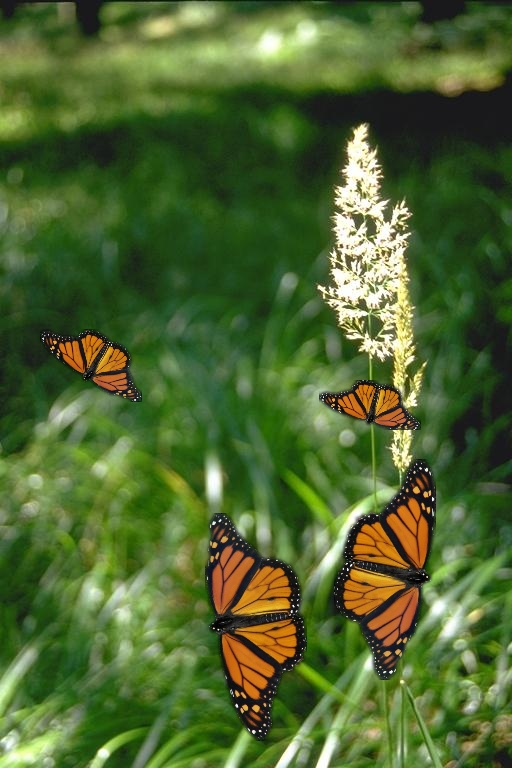danaus_plexippus: (205, 513, 307, 736), (334, 459, 436, 680), (40, 329, 142, 402), (319, 380, 421, 430)
